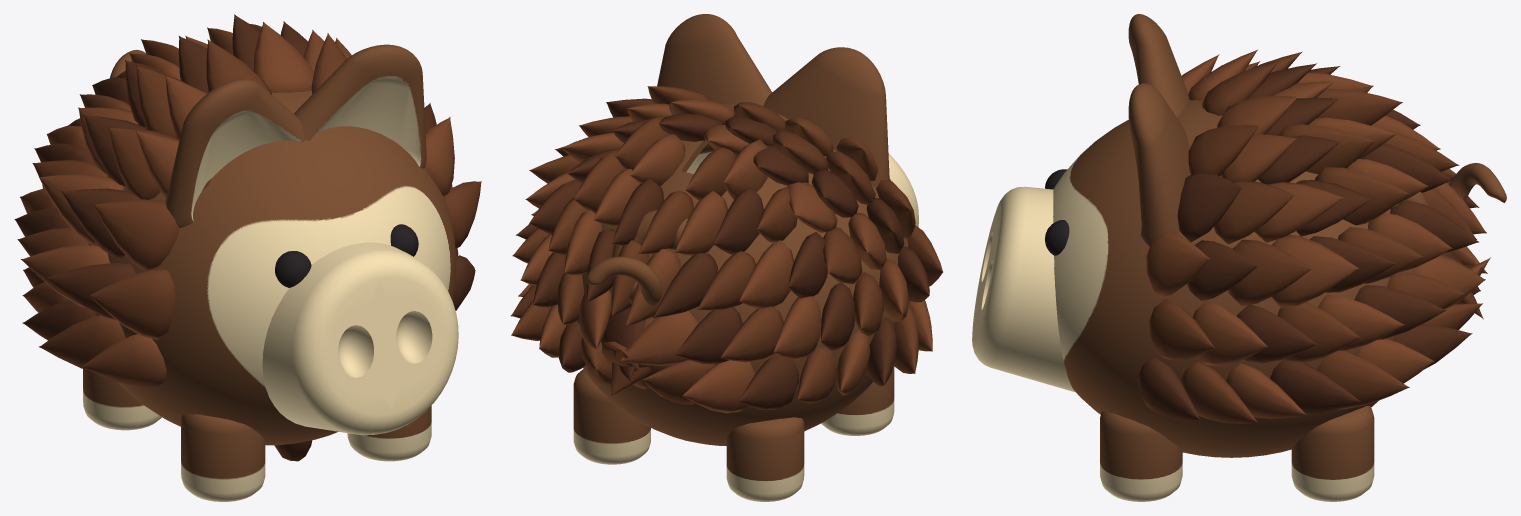
The model's file is hedgehog-epic-v2-complete.fbx.
3 views of the same model, side by side, from view 1: azimuth 30°, elevation 25°; view 2: azimuth 150°, elevation 25°; view 3: azimuth 270°, elevation 25° (orthographic). The views are drawn at different scales.
Visible parts, largest first — view 1: hedgehog_Quills, hedgehog_Body, hedgehog_Snout, hedgehog_Ears, hedgehog_Legs, hedgehog_EyePreview; view 2: hedgehog_Quills, hedgehog_Ears, hedgehog_Legs, hedgehog_Body, hedgehog_Tail, hedgehog_Snout; view 3: hedgehog_Quills, hedgehog_Body, hedgehog_Snout, hedgehog_Legs, hedgehog_Ears, hedgehog_Tail, hedgehog_EyePreview.
Part boxes in pixels (<box>): hedgehog_Quills: <box>14,14,481,461</box>; hedgehog_Body: <box>88,90,456,445</box>; hedgehog_Snout: <box>262,242,458,435</box>; hedgehog_Ears: <box>165,44,426,227</box>; hedgehog_Legs: <box>83,369,431,501</box>; hedgehog_EyePreview: <box>275,224,418,287</box>; hedgehog_Quills: <box>511,86,943,413</box>; hedgehog_Ears: <box>657,14,889,188</box>; hedgehog_Legs: <box>573,366,894,501</box>; hedgehog_Body: <box>577,104,910,445</box>; hedgehog_Tail: <box>587,209,687,305</box>; hedgehog_Snout: <box>888,153,918,227</box>; hedgehog_Quills: <box>1138,49,1490,423</box>; hedgehog_Body: <box>1053,100,1412,457</box>; hedgehog_Snout: <box>972,186,1075,392</box>; hedgehog_Legs: <box>1100,406,1374,501</box>; hedgehog_Ears: <box>1128,14,1189,246</box>; hedgehog_Tail: <box>1398,163,1506,205</box>; hedgehog_EyePreview: <box>1045,169,1069,255</box>.
Bounding box in the file's own units: 1536 × 1409 × 1708.
4 materials, 3 textured.
